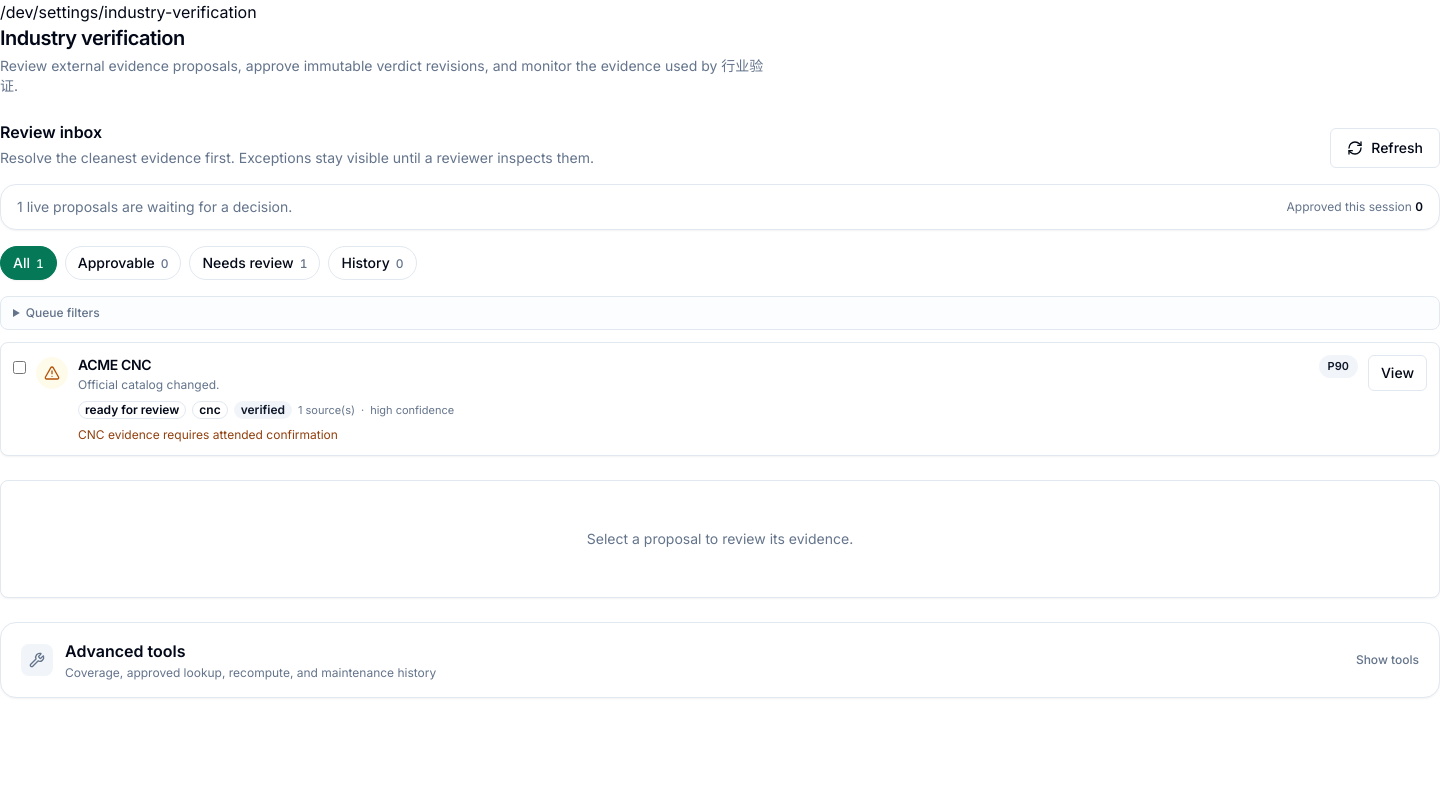
Test: SystemSettingsIndustryVerificationPage › hides ops panels for reviewer members while keeping review surfaces
The width and height of the screenshot is (1440, 802).
// Review surfaces remain visible: queue, evidence, verdict revision history.
What coordinates should you click on to do the following:
click the tab "Needs review1"
I would click on:
 (255, 263)
Its box is x1=189 y1=246 x2=320 y2=280.
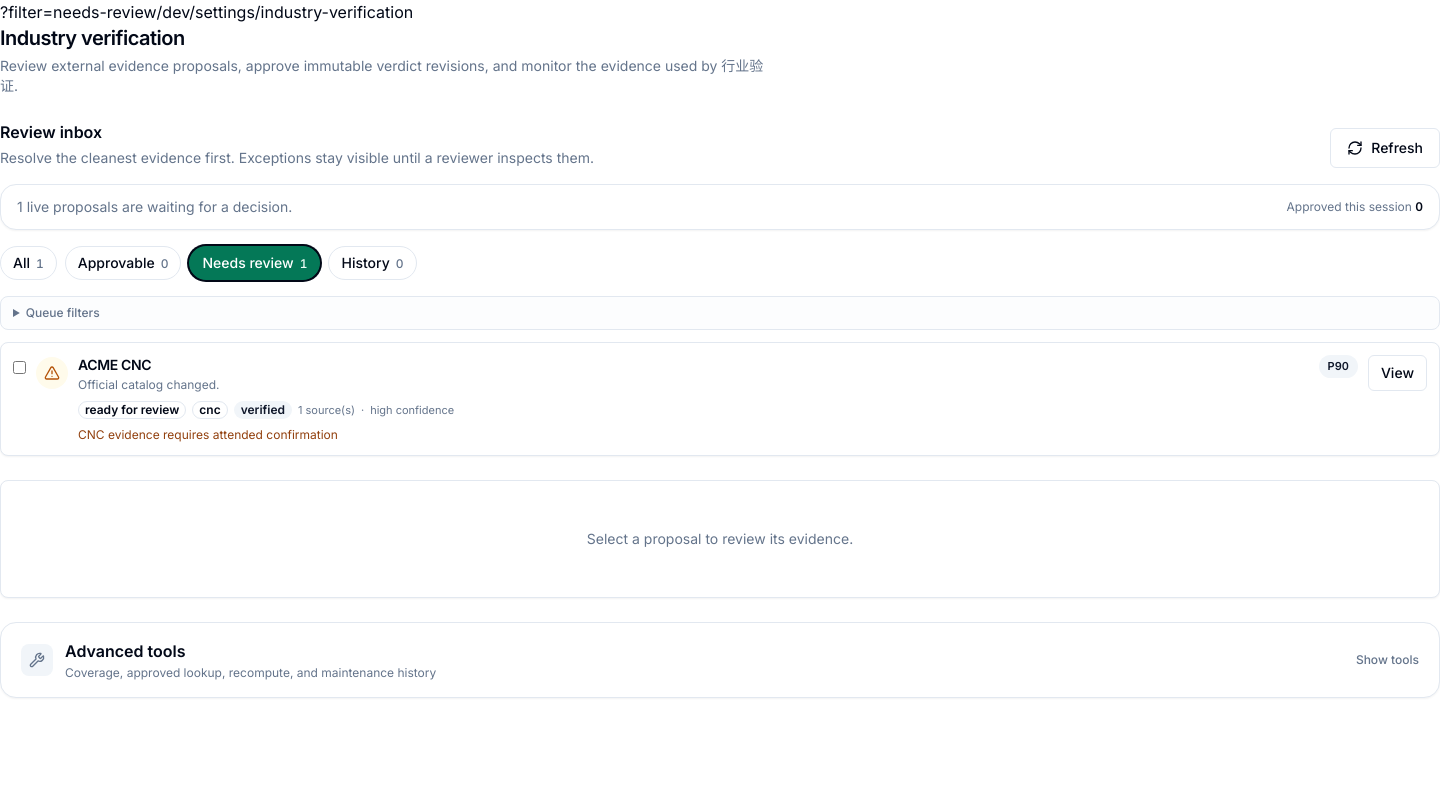
What coordinates should you click on to do the following:
click the element with test id "industry-review-row-proposal-1"
I would click on:
 (720, 399)
Its box is x1=0 y1=342 x2=1439 y2=456.
(page scrolled)
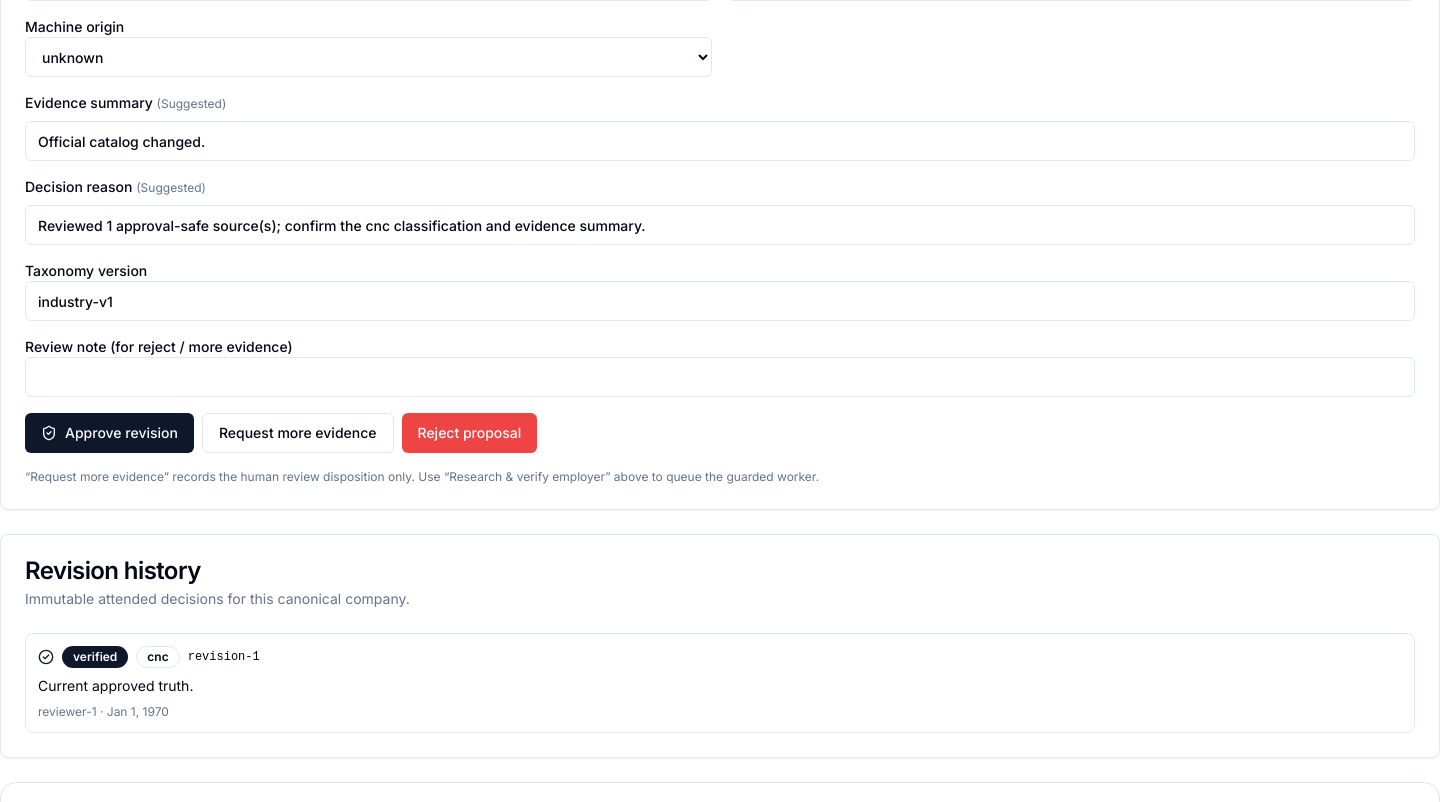
Now the text "Current approved truth." is shown, box x1=38 y1=677 x2=193 y2=694
Now the button "Approve revision" is shown, box x1=25 y1=413 x2=194 y2=453
